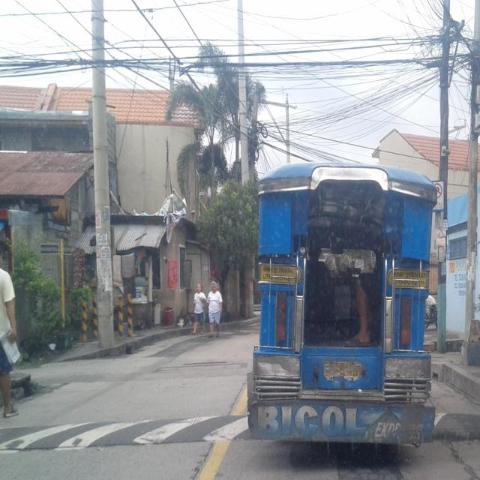jeepney: (253, 157, 438, 451)
